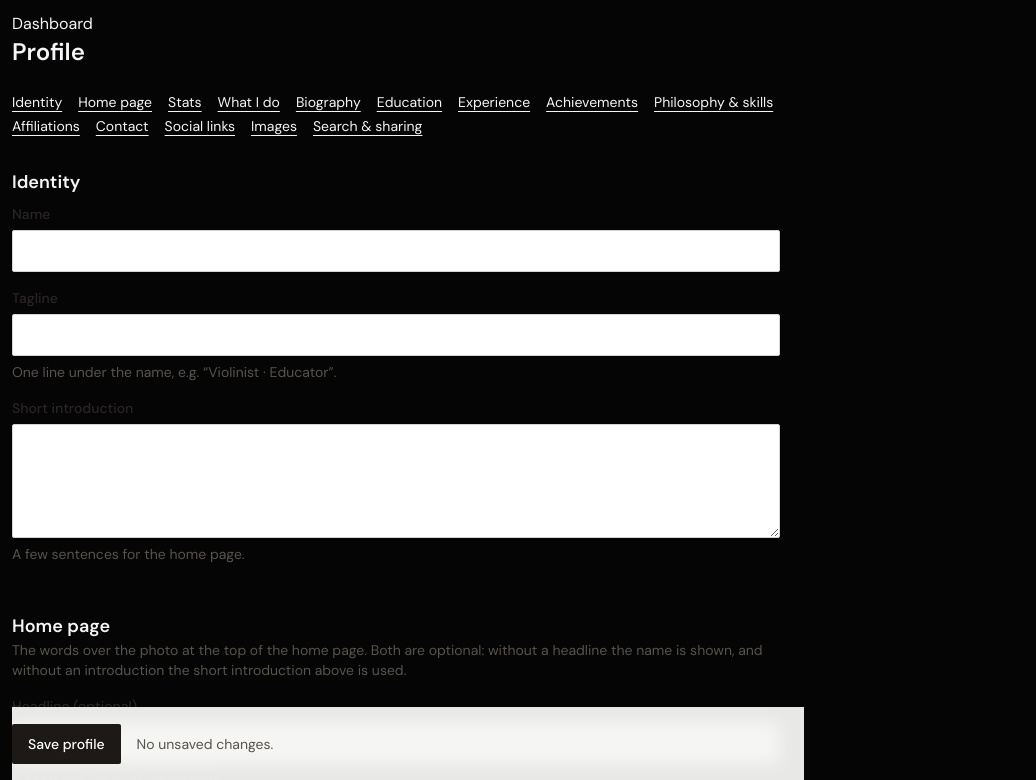
Test: profile editor › starts empty when no profile exists yet, and saving creates it
The image size is (1036, 780).
Type "New Name" into the field labelled "Name" at x=396, y=251, box x1=12 y1=230 x2=780 y2=272
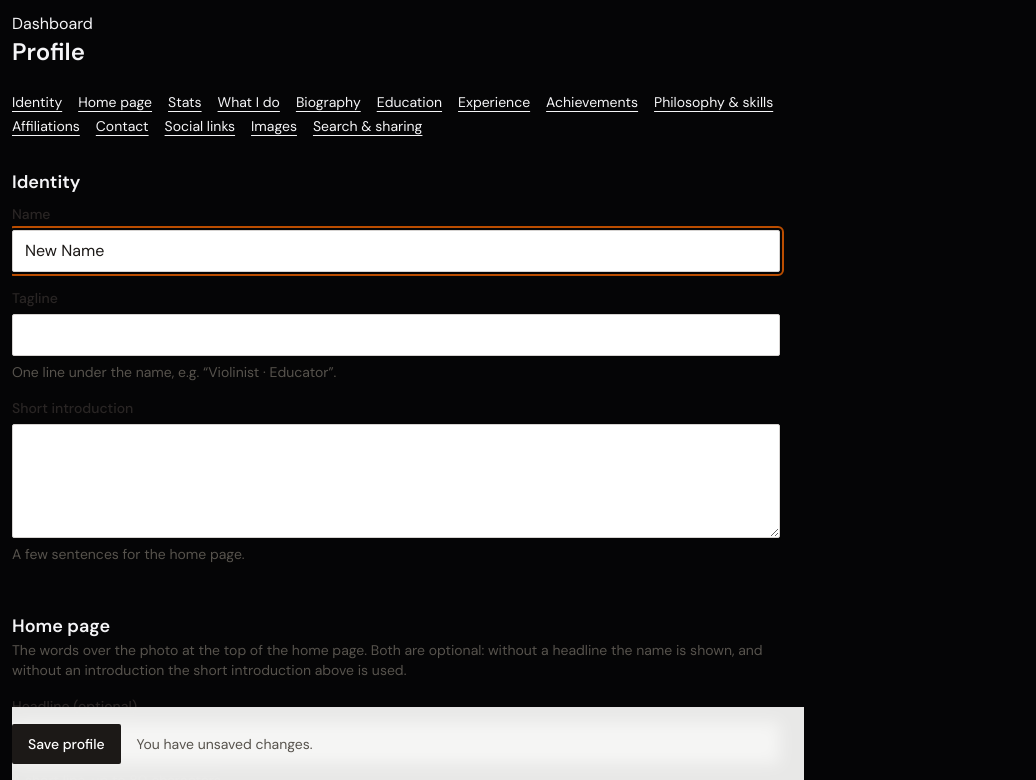
Type "Violinist" into the field labelled "Tagline" at x=396, y=335, box x1=12 y1=314 x2=780 y2=356
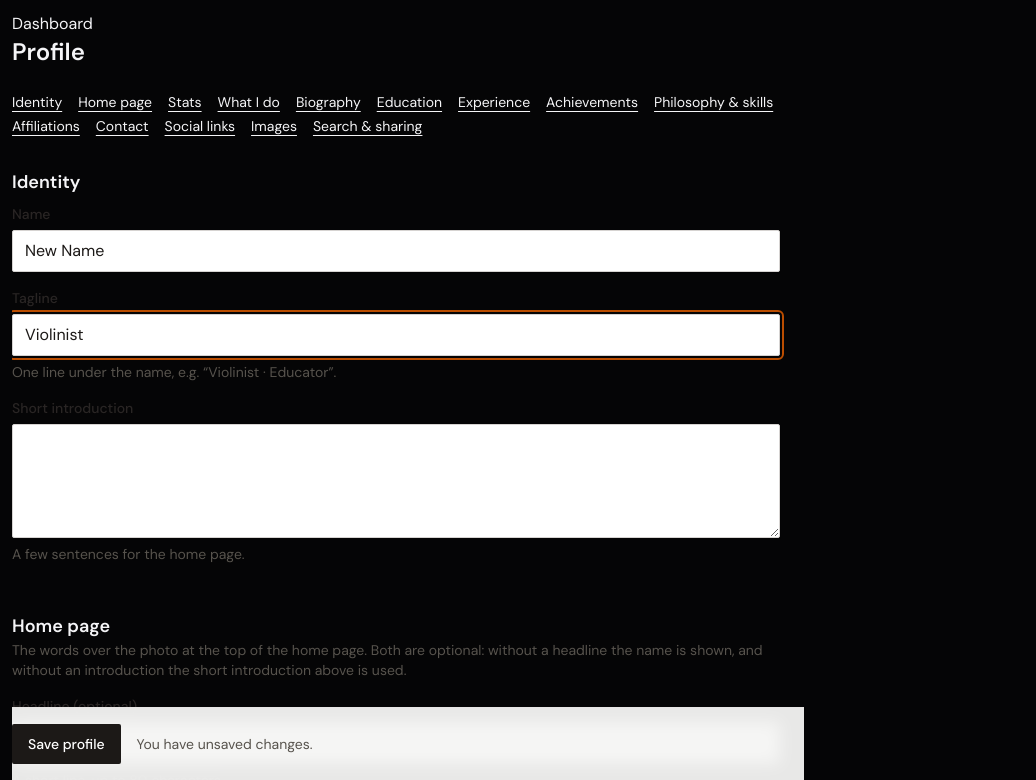
Type "Hello." into the text box labelled "Short introduction" at x=396, y=481, box x1=12 y1=424 x2=780 y2=538
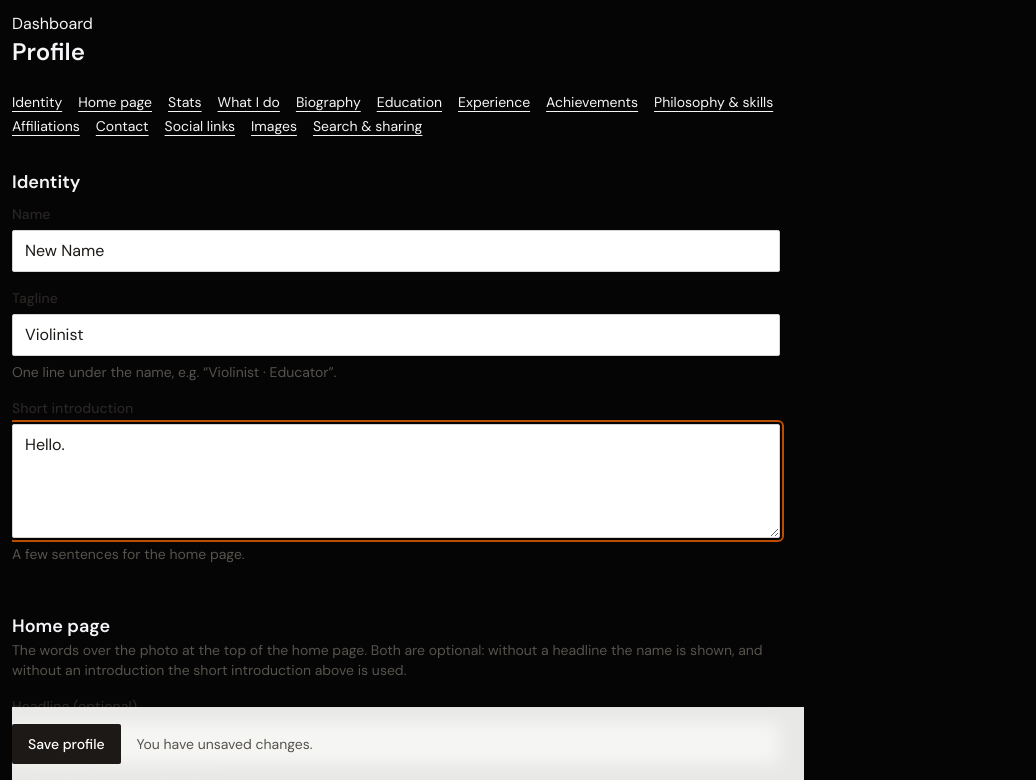
Click the button "Save profile" at x=66, y=744, box x1=12 y1=724 x2=121 y2=764
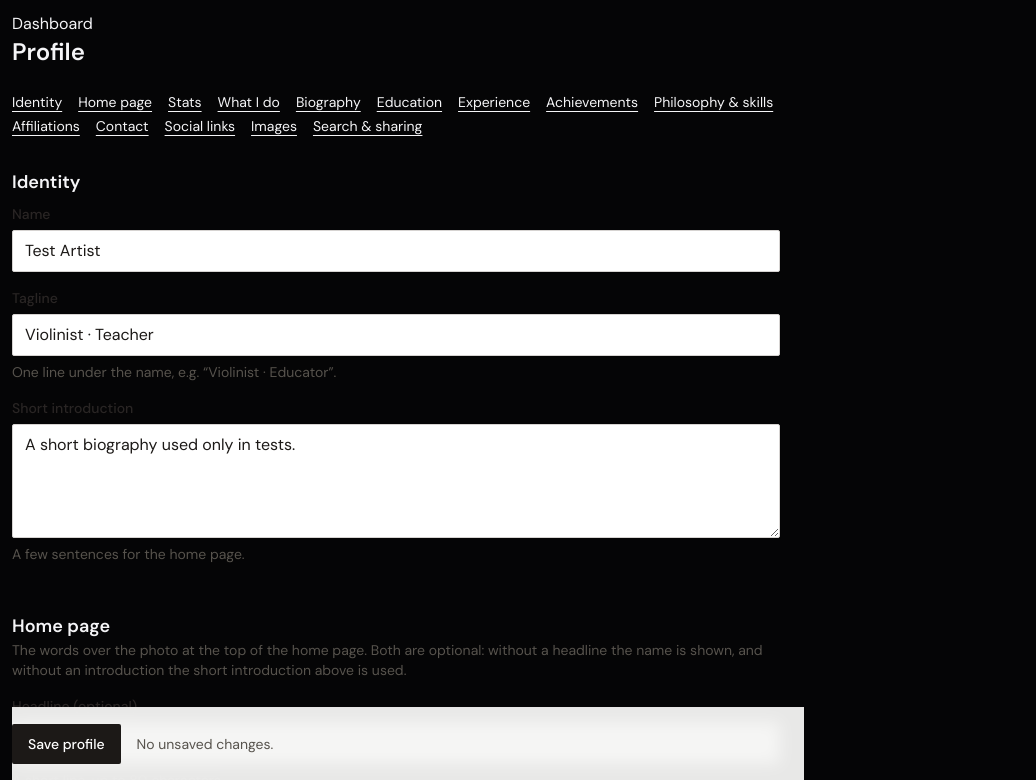
Check: the text "No unsaved changes." is shown, box x1=137 y1=734 x2=273 y2=754
